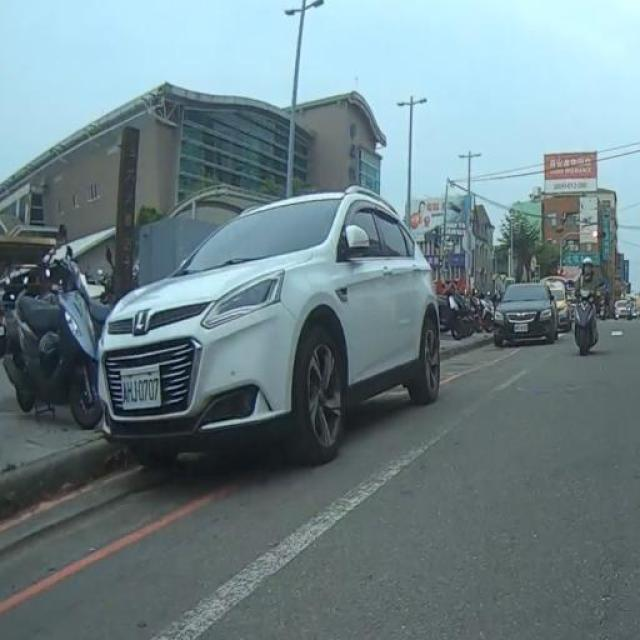illegalparking: (86, 169, 470, 524), (494, 279, 562, 359)
